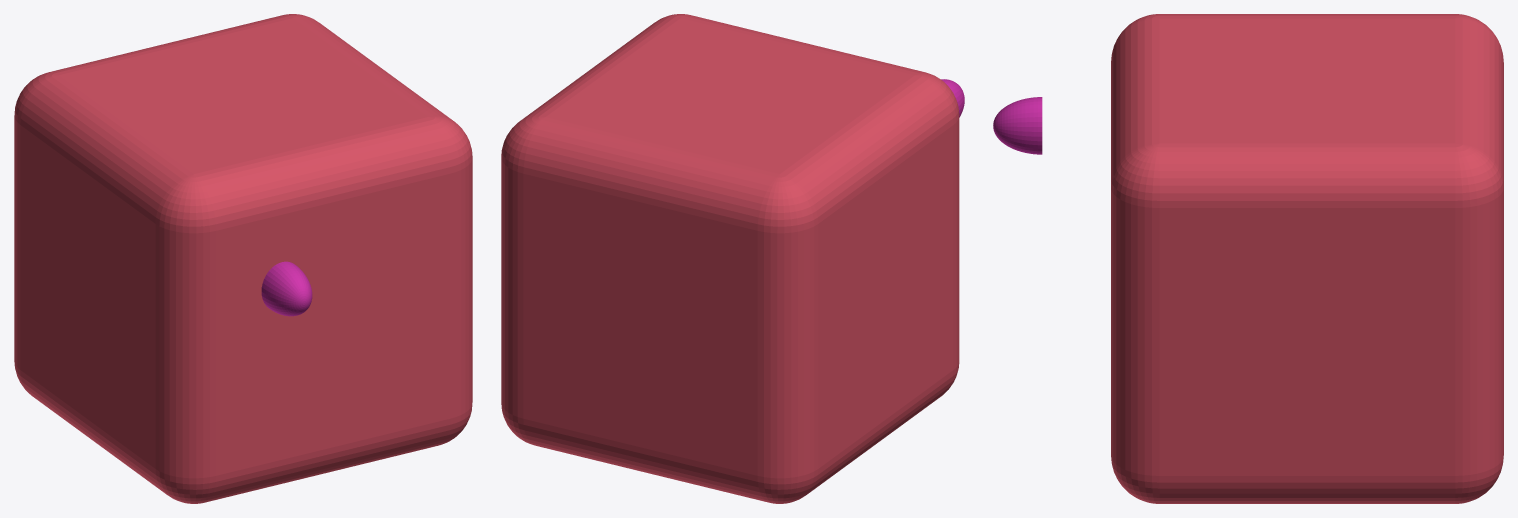
File: Surprising Elzing-Amur.glb
3 renders of one model, left to right at view 1: azimuth 30°, elevation 25°; view 2: azimuth 150°, elevation 25°; view 3: azimuth 270°, elevation 25°, orthographic. The views are drawn at different scales.
Parts seen in each view (by area): view 1: Mesh_Mesh_head_geo.001_lambert2SG.001; view 2: Mesh_Mesh_head_geo.001_lambert2SG.001; view 3: Mesh_Mesh_head_geo.001_lambert2SG.001.
Part boxes in pixels (x1,y1,x2,y2): Mesh_Mesh_head_geo.001_lambert2SG.001: (14,14,472,503); Mesh_Mesh_head_geo.001_lambert2SG.001: (501,14,964,503); Mesh_Mesh_head_geo.001_lambert2SG.001: (993,14,1503,503).
Size of the model in its own units: 0.04 by 0.04 by 0.052.
